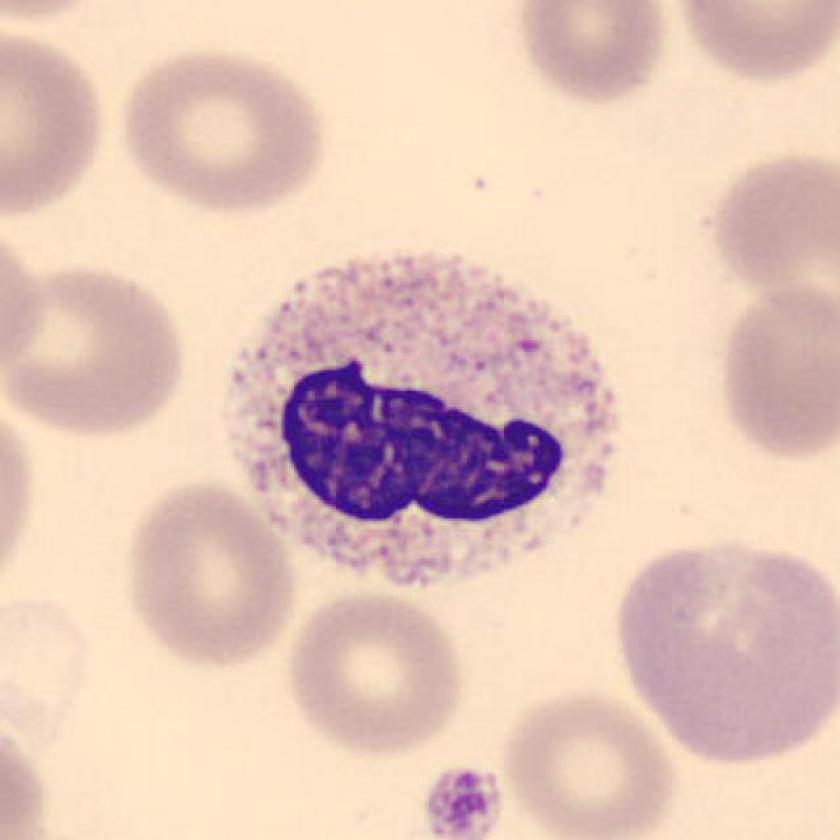neutrophil: (228, 253, 619, 586)
